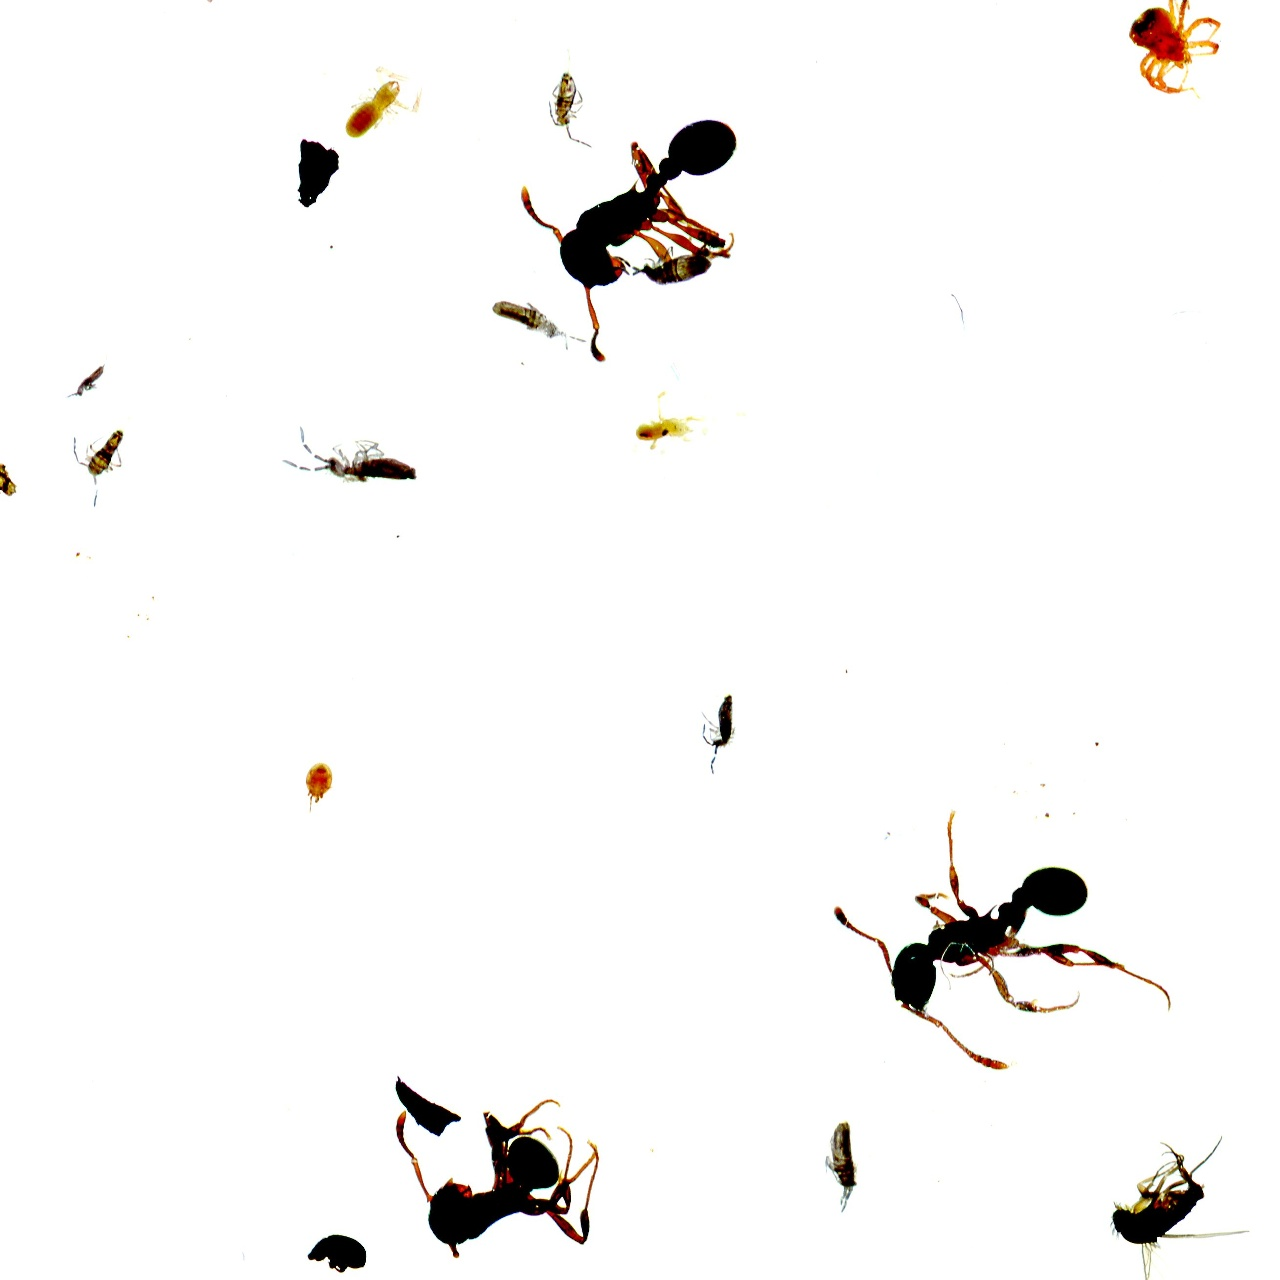arthropod: (450, 29, 802, 388), (818, 811, 1182, 1077), (381, 1089, 602, 1271), (1105, 1128, 1258, 1280), (325, 53, 435, 164), (1123, 0, 1228, 98), (280, 423, 422, 488), (483, 288, 595, 359), (633, 388, 710, 457), (627, 238, 721, 293), (72, 423, 127, 509), (693, 681, 741, 775), (823, 1116, 866, 1217), (546, 67, 595, 155), (306, 1232, 369, 1276), (64, 354, 110, 400), (305, 761, 335, 815)
